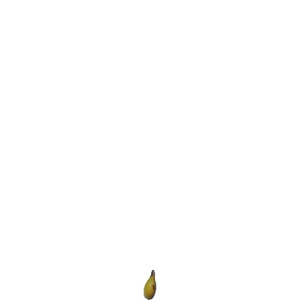banana: (139, 270, 160, 298)
